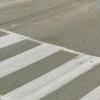Crosswalk: (7, 29, 94, 100)
